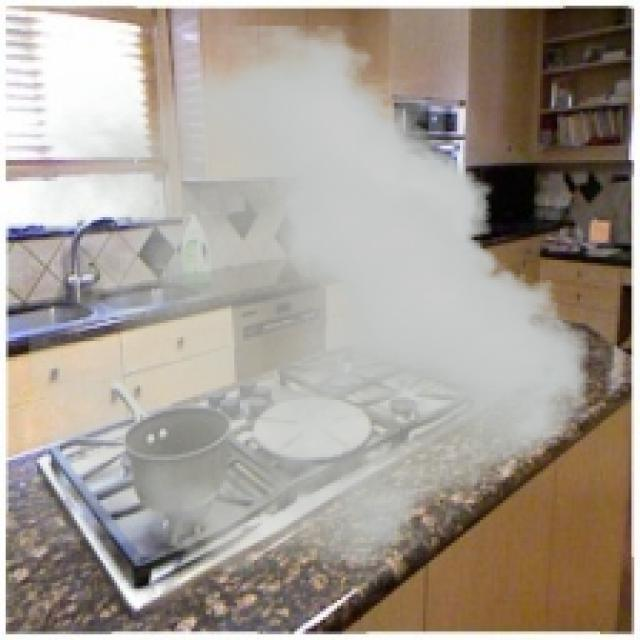Smoke: (29, 25, 588, 578)
